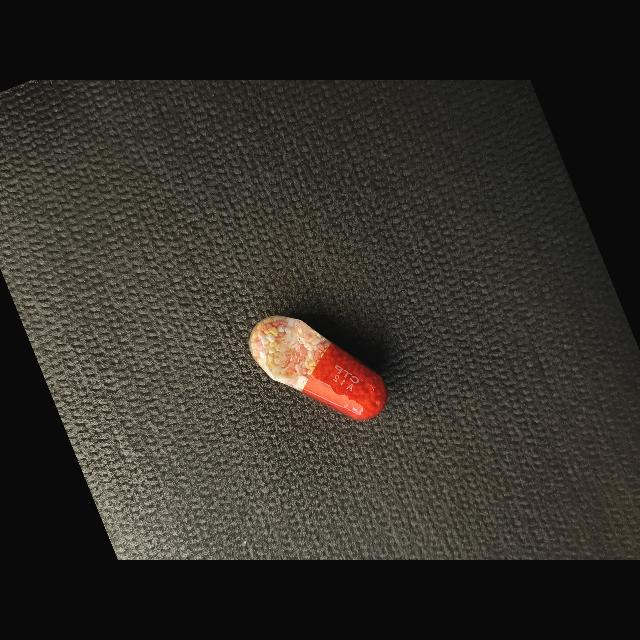Defective Capsule: (249, 315, 387, 420)
